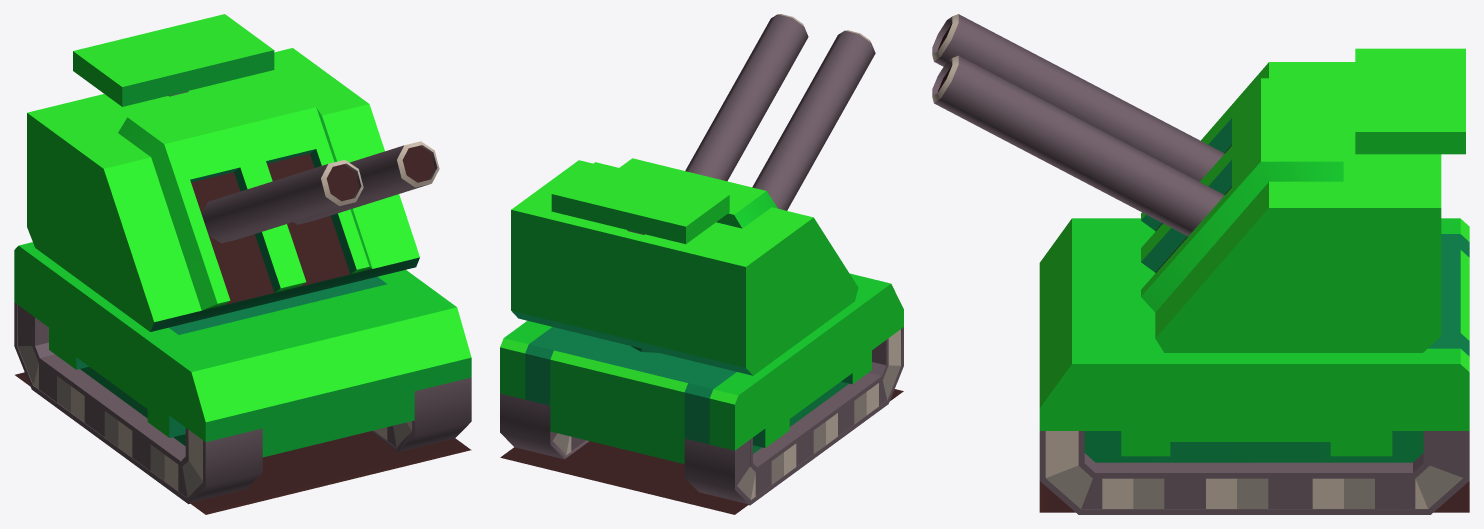
Rendered from AntiAirMesh.GreenEarth.glb.
The picture shows the model from 3 angles, left to right: view 1: azimuth 30°, elevation 25°; view 2: azimuth 150°, elevation 25°; view 3: azimuth 270°, elevation 25°; orthographic projection. The views are drawn at different scales.
Parts seen in each view (by area): view 1: AntiAirMesh.GreenEarth; view 2: AntiAirMesh.GreenEarth; view 3: AntiAirMesh.GreenEarth.
Boxes of the visible parts, x1,y1,x2,y2 form: AntiAirMesh.GreenEarth: (14,14,471,514); AntiAirMesh.GreenEarth: (500,14,903,514); AntiAirMesh.GreenEarth: (932,14,1469,514).
Bounding box in the file's own units: 1.4 × 1.8 × 2.18.
1 material, 1 textured.
